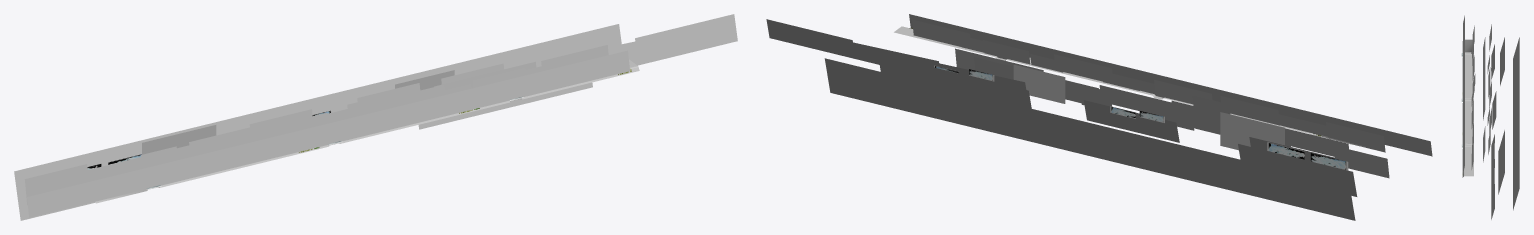
Rendered from BG_Saryeoni_divide00.FBX.
3 renders of one model, left to right at view 1: azimuth 30°, elevation 25°; view 2: azimuth 150°, elevation 25°; view 3: azimuth 270°, elevation 25°, orthographic. The views are drawn at different scales.
Visible parts, largest first — view 1: near_object_saryeoni_02, near_object_saryeoni_01, near_object_saryeoni_03, near_object_saryeoni_04, halla2_saryeoni_02, sky_saryeoni_01, sky_saryeoni_04, sky_saryeoni_03, halla1_saryeoni_10, halla1_saryeoni_09, sky_saryeoni_02, waterfall_1_saryeoni_01 (+16 smaller); view 2: sky_saryeoni_03, sky_saryeoni_01, sky_saryeoni_02, sky_saryeoni_04, halla2_saryeoni_02, halla2_saryeoni_01, waterfall_1_saryeoni_01, near_object_saryeoni_01, waterfall_1_saryeoni_02, near_object_saryeoni_03, near_object_saryeoni_04, near_object_saryeoni_02 (+24 smaller); view 3: halla2_saryeoni_02, sky_saryeoni_04, sky_saryeoni_02, sky_saryeoni_03, sky_saryeoni_01, halla2_saryeoni_01, ground_saryeoni_01, ground_saryeoni_09, ground_saryeoni_012, ground_saryeoni_05, ground_saryeoni_06, ground_saryeoni_04 (+33 smaller).
Boxes of the visible parts, x1,y1,x2,y2 form: near_object_saryeoni_02: (177,124,329,180); near_object_saryeoni_01: (27,160,179,217); near_object_saryeoni_03: (327,87,479,143); near_object_saryeoni_04: (477,50,629,107); halla2_saryeoni_02: (418,40,592,129); sky_saryeoni_01: (14,134,165,220); sky_saryeoni_04: (468,24,621,68); sky_saryeoni_03: (316,60,468,145); halla1_saryeoni_10: (684,14,737,52); halla1_saryeoni_09: (635,26,687,65); sky_saryeoni_02: (165,97,318,136); waterfall_1_saryeoni_01: (142,125,216,154); sky_saryeoni_03: (956,90,1092,156); sky_saryeoni_01: (1218,154,1355,220); sky_saryeoni_02: (1087,122,1224,188); sky_saryeoni_04: (824,58,961,124); halla2_saryeoni_02: (878,54,1031,108); halla2_saryeoni_01: (1238,144,1357,196); waterfall_1_saryeoni_01: (1220,112,1284,150); near_object_saryeoni_01: (1300,109,1432,156); waterfall_1_saryeoni_02: (1013,64,1065,103); near_object_saryeoni_03: (1039,46,1170,83); near_object_saryeoni_04: (909,14,1040,57); near_object_saryeoni_02: (1170,77,1301,119); halla2_saryeoni_02: (1498,130,1504,194); sky_saryeoni_04: (1513,151,1519,210); sky_saryeoni_02: (1513,75,1519,133); sky_saryeoni_03: (1513,113,1519,171); sky_saryeoni_01: (1513,37,1519,95); halla2_saryeoni_01: (1500,37,1504,85); ground_saryeoni_01: (1462,39,1473,53); ground_saryeoni_09: (1462,130,1473,146); ground_saryeoni_012: (1462,166,1473,177); ground_saryeoni_05: (1462,85,1473,101); ground_saryeoni_06: (1462,101,1473,112); ground_saryeoni_04: (1462,75,1473,86).
Size of the model in its own units: 16640 by 1515 by 2225.
